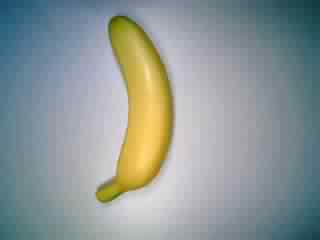banana: (92, 12, 179, 207)
